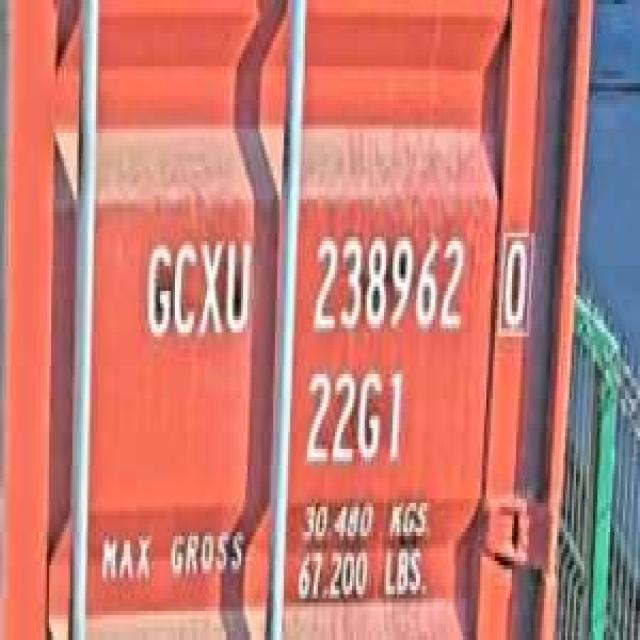dv: (495, 221, 535, 342)
owner: (138, 225, 252, 349)
serial: (305, 220, 469, 341)
size: (299, 357, 405, 474)
